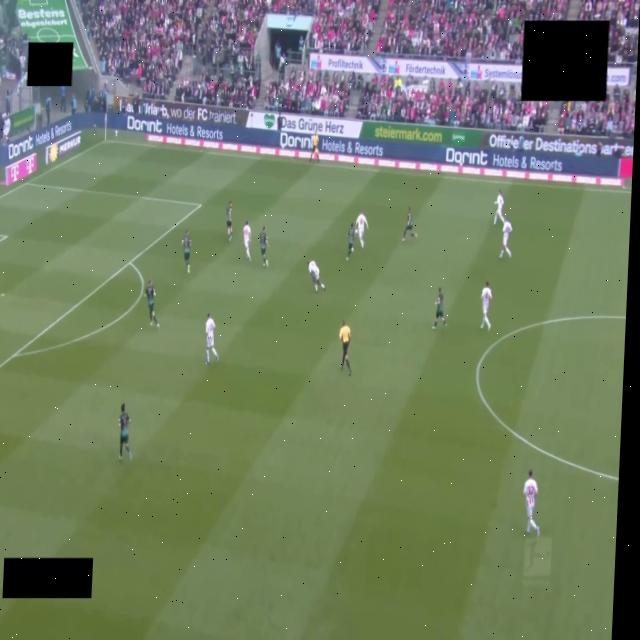player: (523, 470, 539, 535), (118, 403, 132, 460), (205, 313, 218, 365), (145, 280, 159, 328), (433, 288, 447, 329), (307, 261, 325, 292), (481, 281, 492, 330), (500, 218, 512, 258), (258, 226, 270, 266), (403, 208, 417, 241), (356, 211, 367, 247), (346, 223, 356, 260), (182, 231, 190, 272), (243, 221, 251, 261), (494, 191, 503, 225), (226, 200, 232, 242)
referee: (339, 321, 351, 376)
